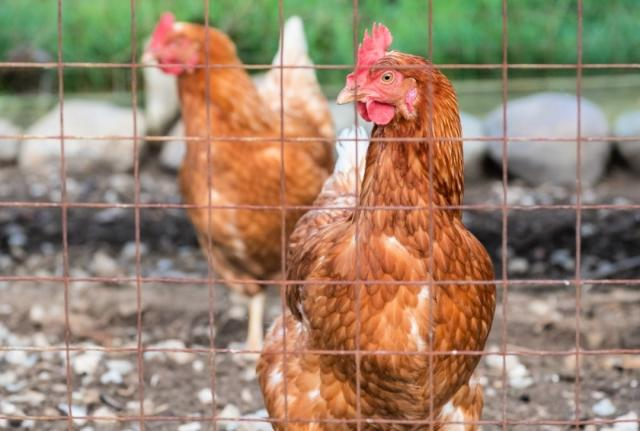Chicken: (255, 20, 497, 431), (145, 12, 339, 360)
